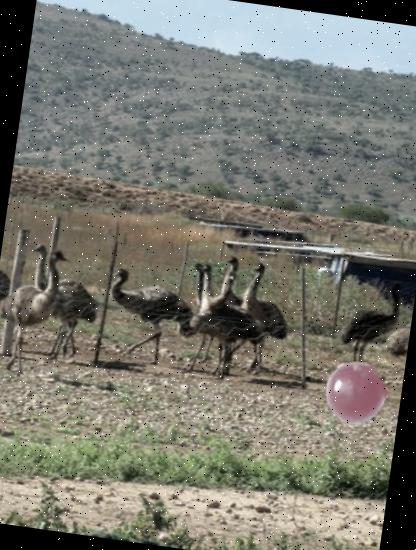Redcurrant: (320, 358, 390, 428)
